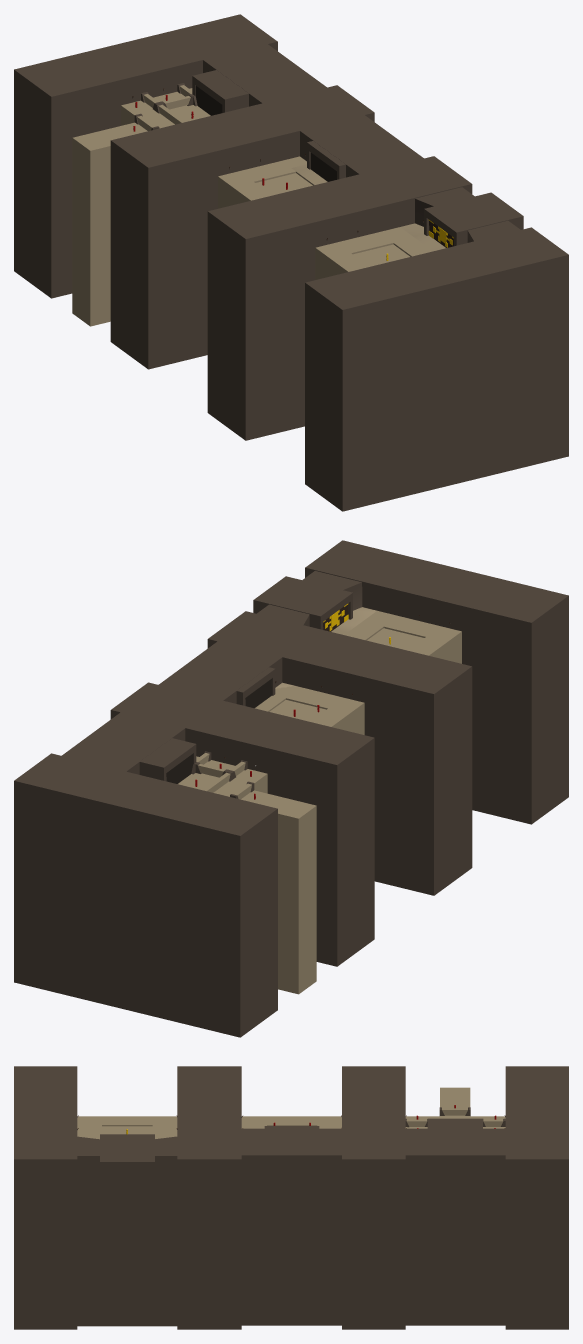
Rendered from Temple2.FBX.
The picture shows the model from 3 angles, top to bottom: view 1: azimuth 30°, elevation 25°; view 2: azimuth 150°, elevation 25°; view 3: azimuth 270°, elevation 25°; orthographic projection. The views are drawn at different scales.
Visible parts, largest first — view 1: Object085, Object036, Object081, Object006, Object068, Object070, Object005, Object069, Object037, Object088, Object071, Object087 (+4 smaller); view 2: Object036, Object085, Object070, Object068, Object005, Object037, Object006, Object069, Object081, Object088, Object071, Object087 (+3 smaller); view 3: Object069, Object037, Object036, Object085, Object006, Object070, Object084, Object081, Object068, Object071, Object088, Object005 (+2 smaller).
Part boxes in pixels (box(x1,y1,x2,y2)): Object085: box(305, 227, 568, 511); Object036: box(14, 14, 277, 298); Object081: box(208, 175, 472, 440); Object006: box(111, 85, 374, 369); Object068: box(110, 85, 374, 368); Object070: box(207, 156, 470, 439); Object005: box(72, 88, 210, 326); Object069: box(279, 91, 459, 200); Object037: box(168, 19, 362, 124); Object088: box(315, 227, 432, 279); Object071: box(424, 192, 523, 246); Object087: box(218, 156, 306, 208); Object036: box(14, 753, 277, 1037); Object085: box(305, 540, 568, 824); Object070: box(207, 611, 471, 895); Object068: box(110, 684, 374, 966); Object005: box(178, 756, 316, 994); Object037: box(27, 686, 216, 797); Object006: box(111, 682, 373, 764); Object069: box(157, 615, 317, 726); Object081: box(233, 611, 472, 893); Object088: box(344, 610, 461, 663); Object071: box(253, 576, 352, 629); Object087: box(255, 686, 364, 734); Object069: box(182, 1128, 341, 1325); Object037: box(405, 1128, 505, 1325); Object036: box(505, 1066, 568, 1329); Object085: box(14, 1066, 77, 1329); Object006: box(342, 1066, 405, 1329); Object070: box(178, 1066, 241, 1329); Object084: box(77, 1136, 177, 1326); Object081: box(177, 1066, 240, 1329); Object068: box(342, 1066, 405, 1329); Object071: box(100, 1134, 154, 1184); Object088: box(77, 1116, 177, 1139); Object005: box(405, 1087, 505, 1128).
Bounding box in the file's own units: 268 × 224 × 658.
